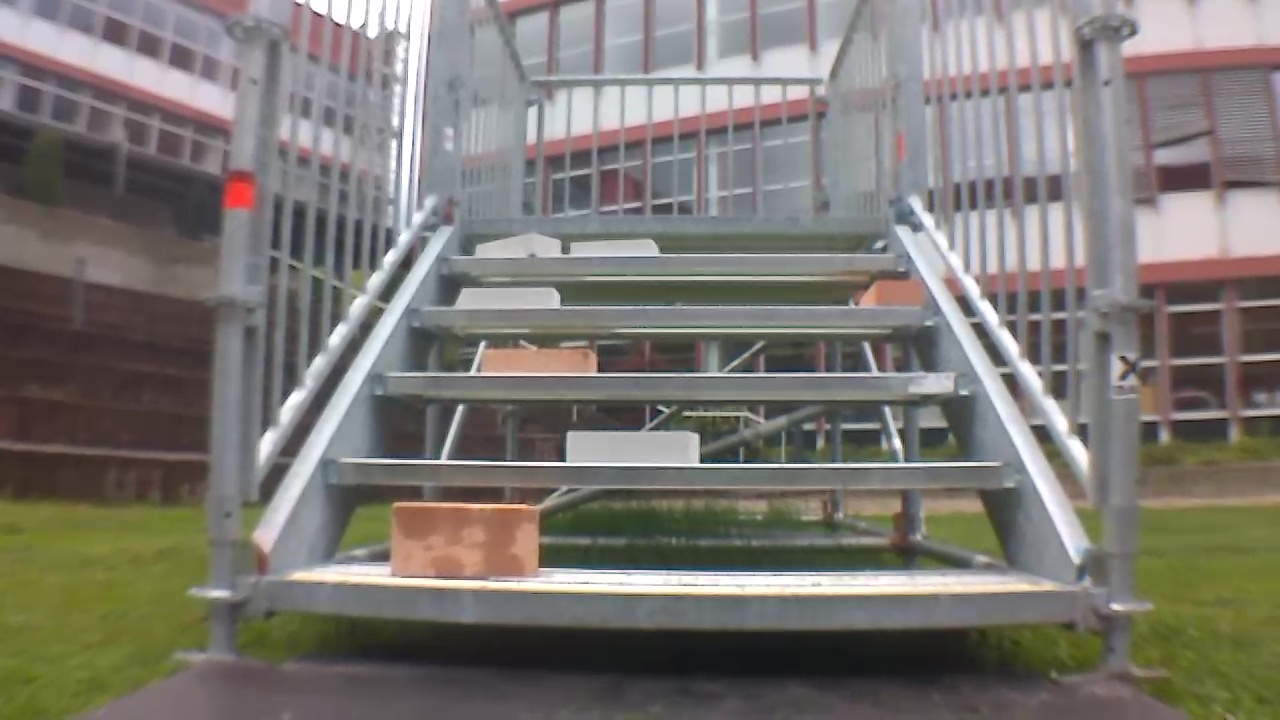brick: (391, 501, 538, 576), (566, 431, 699, 464), (481, 349, 595, 373), (461, 288, 558, 308), (476, 234, 559, 255), (859, 279, 923, 306), (572, 239, 658, 255)
edge: (268, 580, 1076, 629), (325, 460, 1015, 487), (371, 373, 977, 399), (408, 306, 937, 326), (438, 256, 908, 273), (460, 217, 890, 235)
stairs: (195, 2, 1154, 675)
steps: (255, 213, 1084, 635)
